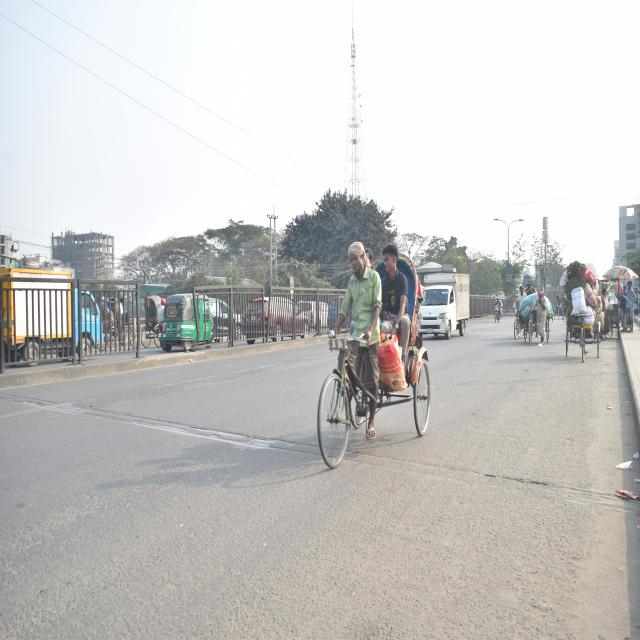motorbike: (488, 298, 504, 325)
pickup-van: (418, 270, 474, 347)
